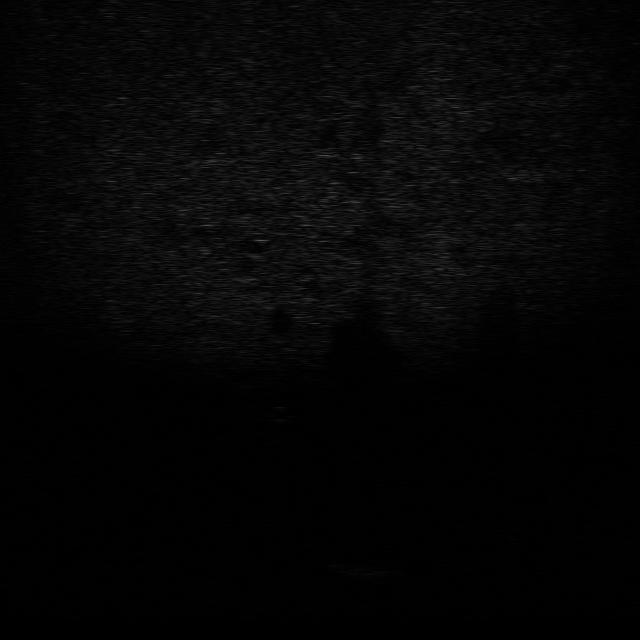ball: (260, 402, 295, 423)
metal bucket: (324, 558, 405, 584)
tyre: (475, 500, 523, 538)
